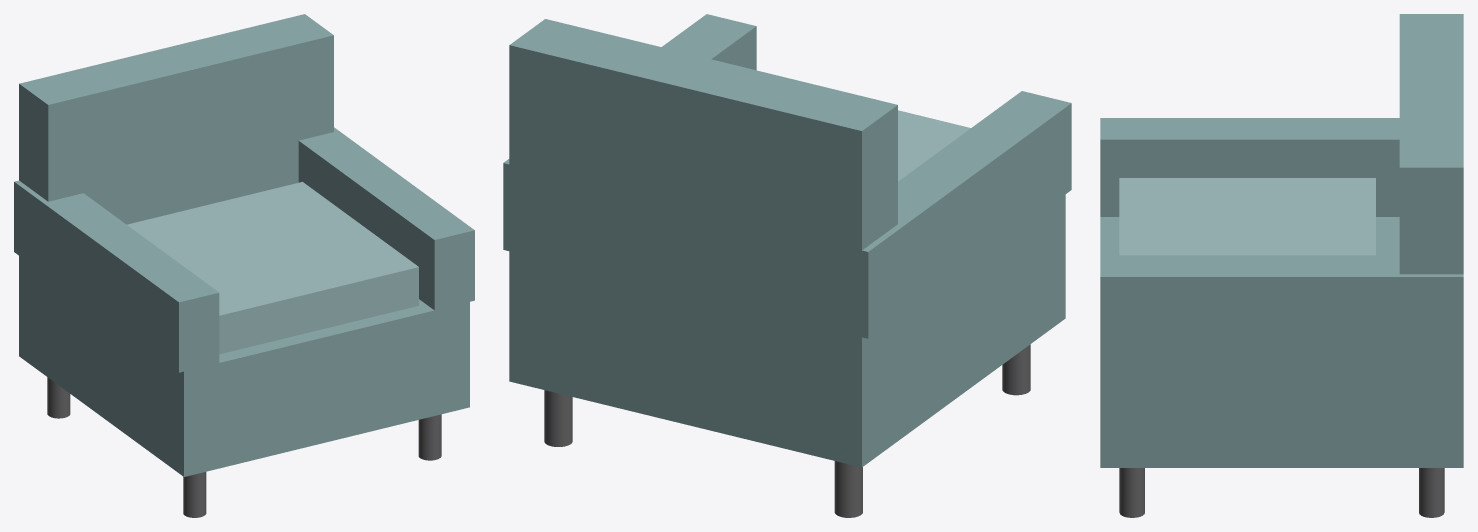
Rendered from armchair.glb.
3 views of the same model, side by side, from view 1: azimuth 30°, elevation 25°; view 2: azimuth 150°, elevation 25°; view 3: azimuth 270°, elevation 25° (orthographic). The views are drawn at different scales.
Visible parts, largest first — view 1: armchair; view 2: armchair; view 3: armchair.
Part boxes in pixels (x1,y1,x2,y2): armchair: [14, 14, 474, 517]; armchair: [503, 14, 1071, 517]; armchair: [1100, 14, 1463, 517].
Bounding box in the file's own units: 0.88 × 0.925 × 0.85.
